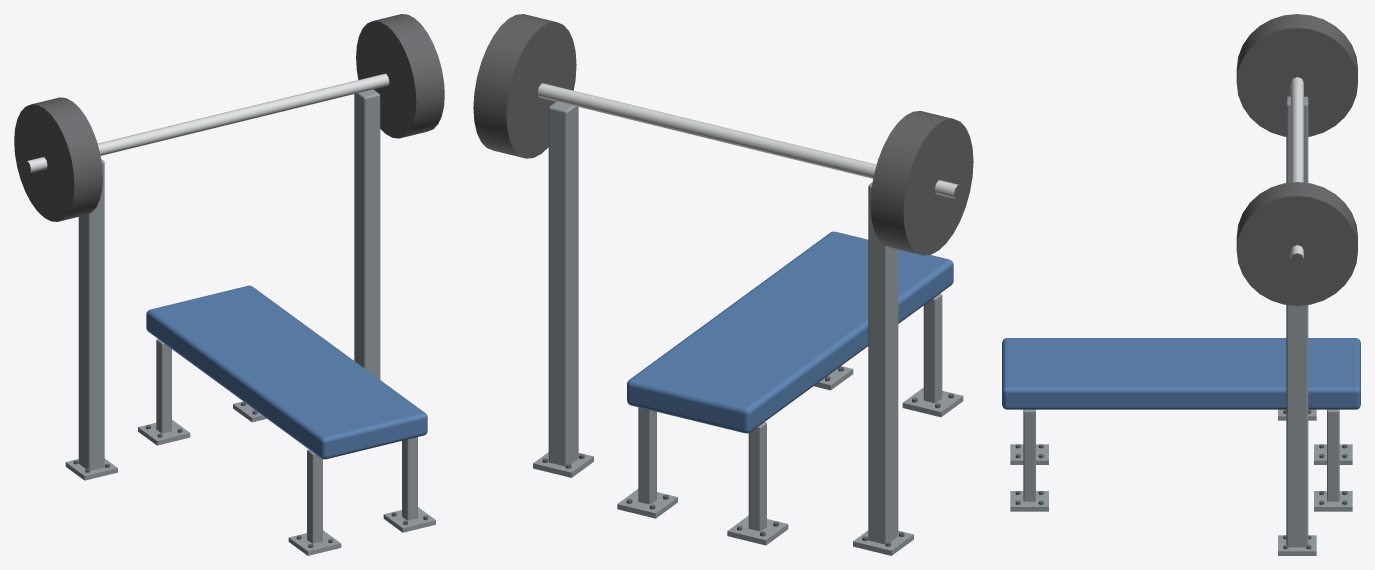
Rendered from prison-complex-builder-weight-bench-159cc217__25674.glb.
3 renders of one model, left to right at view 1: azimuth 30°, elevation 25°; view 2: azimuth 150°, elevation 25°; view 3: azimuth 270°, elevation 25°, orthographic. The views are drawn at different scales.
Visible parts, largest first — view 1: weight-bench; view 2: weight-bench; view 3: weight-bench.
Boxes of the visible parts, <box> form: weight-bench: <box>14,14,444,555</box>; weight-bench: <box>473,14,973,555</box>; weight-bench: <box>1002,14,1360,555</box>.
Size of the model in its own units: 1.7 by 1.5 by 1.3.
